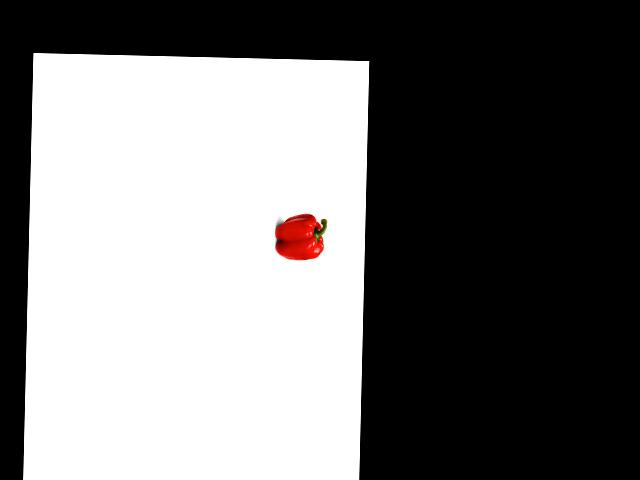bell_pepper: (273, 212, 328, 261)
